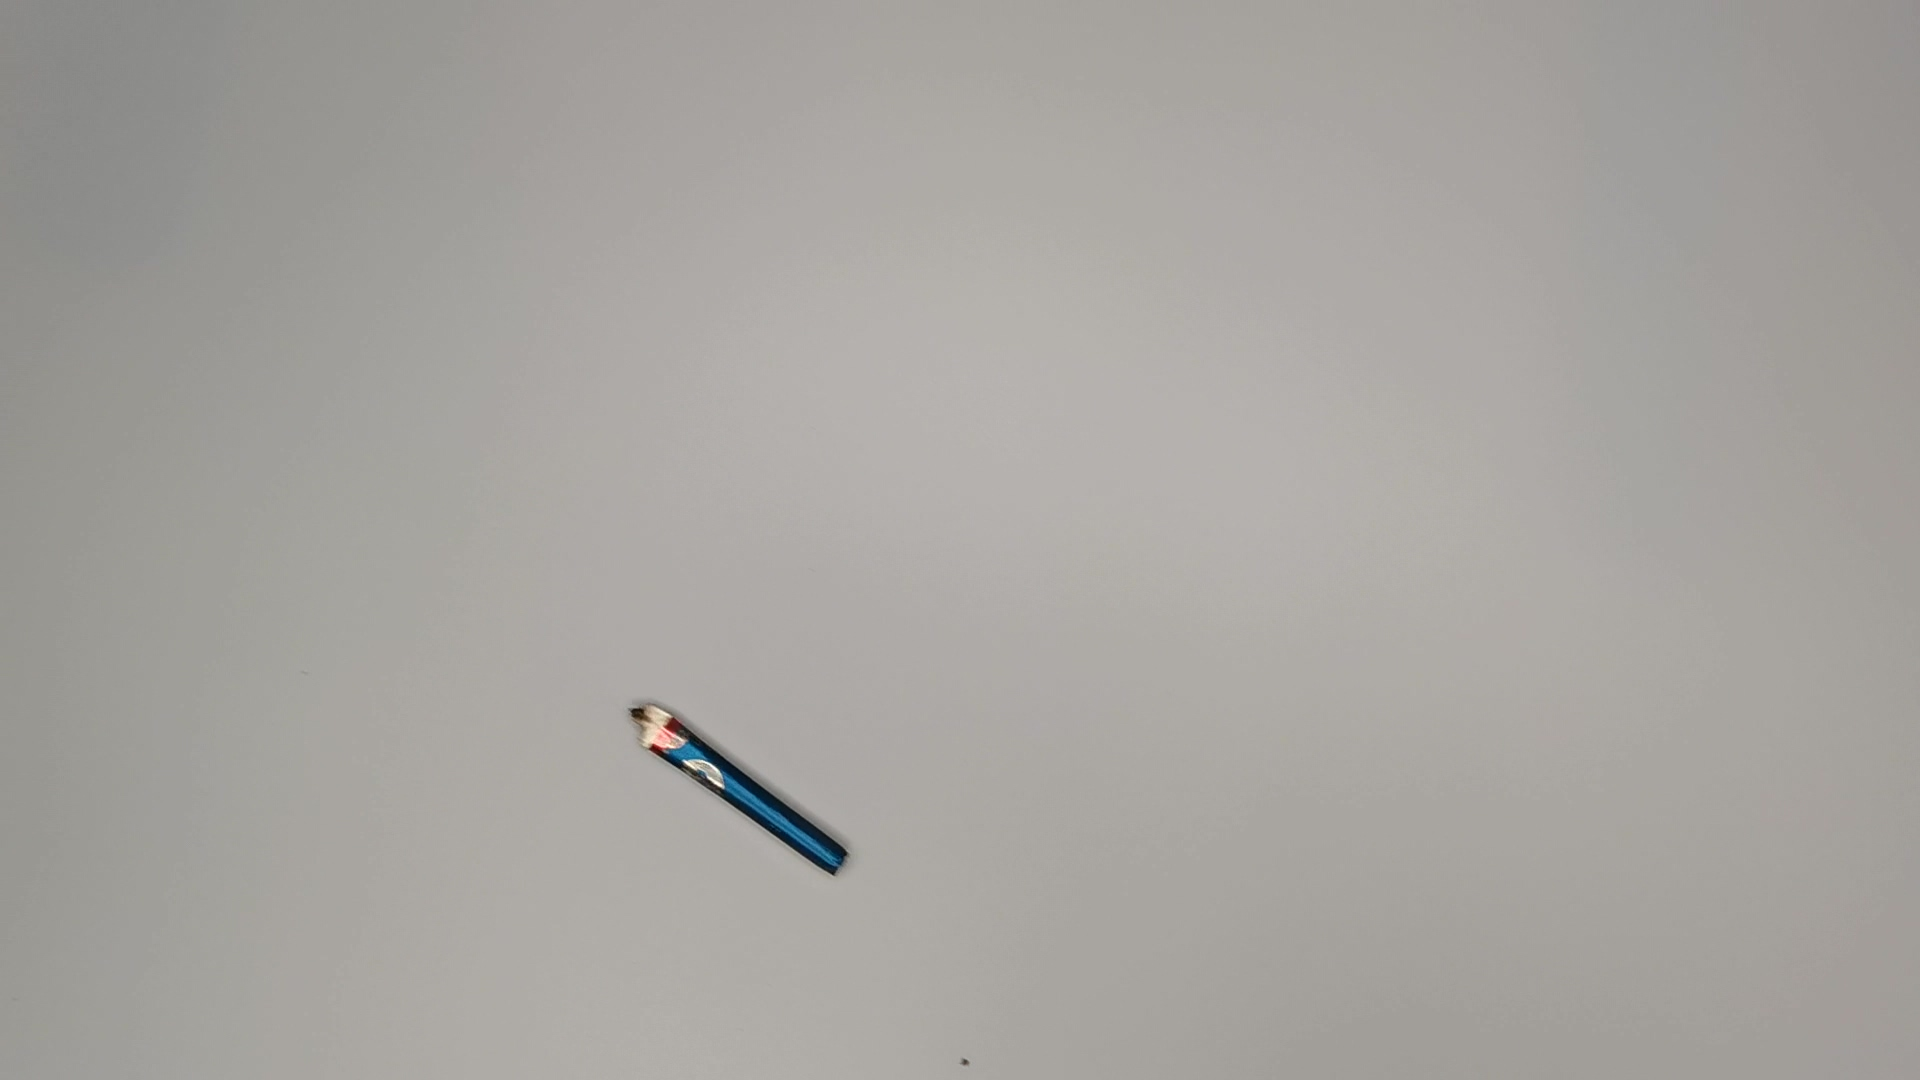cigarette: (622, 700, 860, 885)
